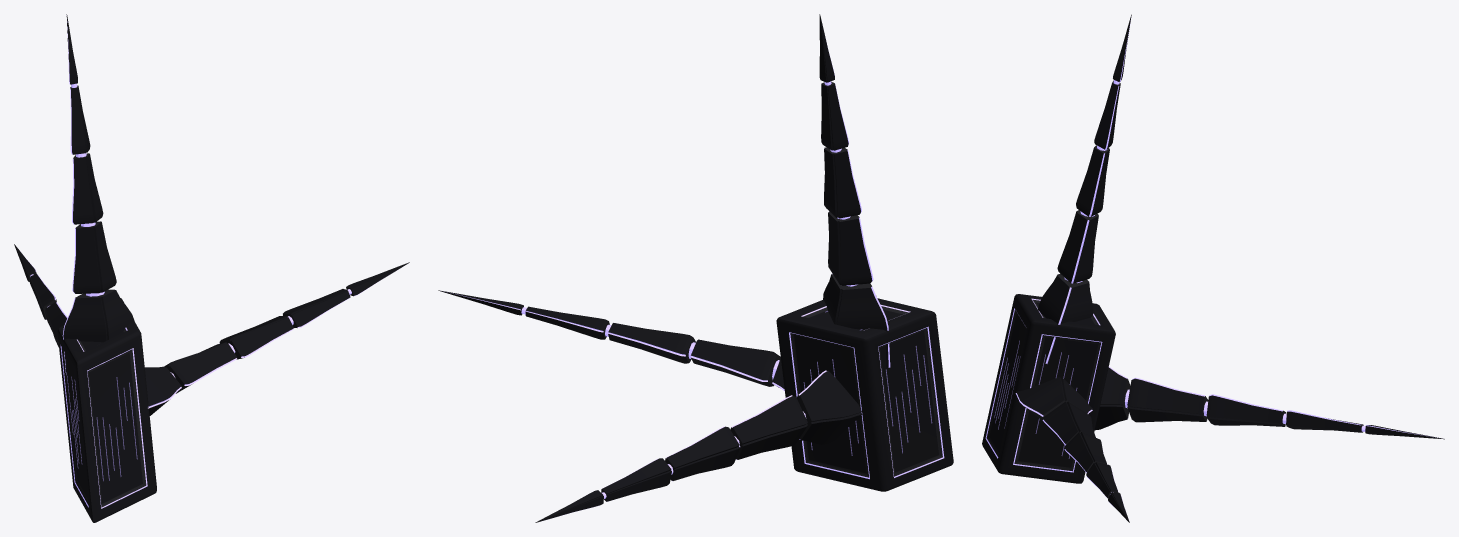
Rendered from anchor.glb.
3 renders of one model, left to right at view 1: azimuth 30°, elevation 25°; view 2: azimuth 150°, elevation 25°; view 3: azimuth 270°, elevation 25°, orthographic. The views are drawn at different scales.
Parts seen in each view (by area): view 1: core, spire_3, spire_1, spire_2; view 2: core, spire_2, spire_3, spire_1; view 3: core, spire_2, spire_3, spire_1.
Boxes of the visible parts, x1,y1,x2,y2 form: core: [57, 298, 156, 522]; spire_3: [62, 14, 134, 375]; spire_1: [144, 262, 409, 415]; spire_2: [14, 244, 67, 347]; core: [776, 298, 953, 491]; spire_2: [535, 370, 861, 522]; spire_3: [819, 14, 890, 368]; spire_1: [438, 290, 784, 391]; core: [982, 294, 1115, 483]; spire_2: [1095, 366, 1444, 439]; spire_3: [1038, 14, 1131, 364]; spire_1: [1015, 377, 1129, 522].
Bounding box in the file's own units: 2.46 × 2.7 × 2.49.
